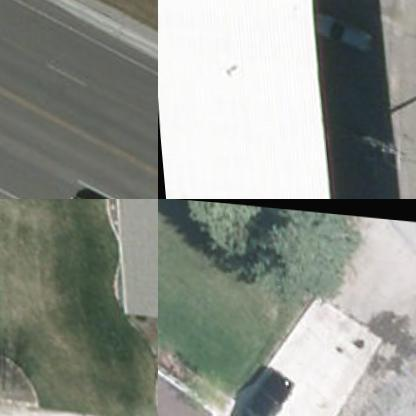car: (225, 357, 296, 415), (306, 10, 376, 43)
